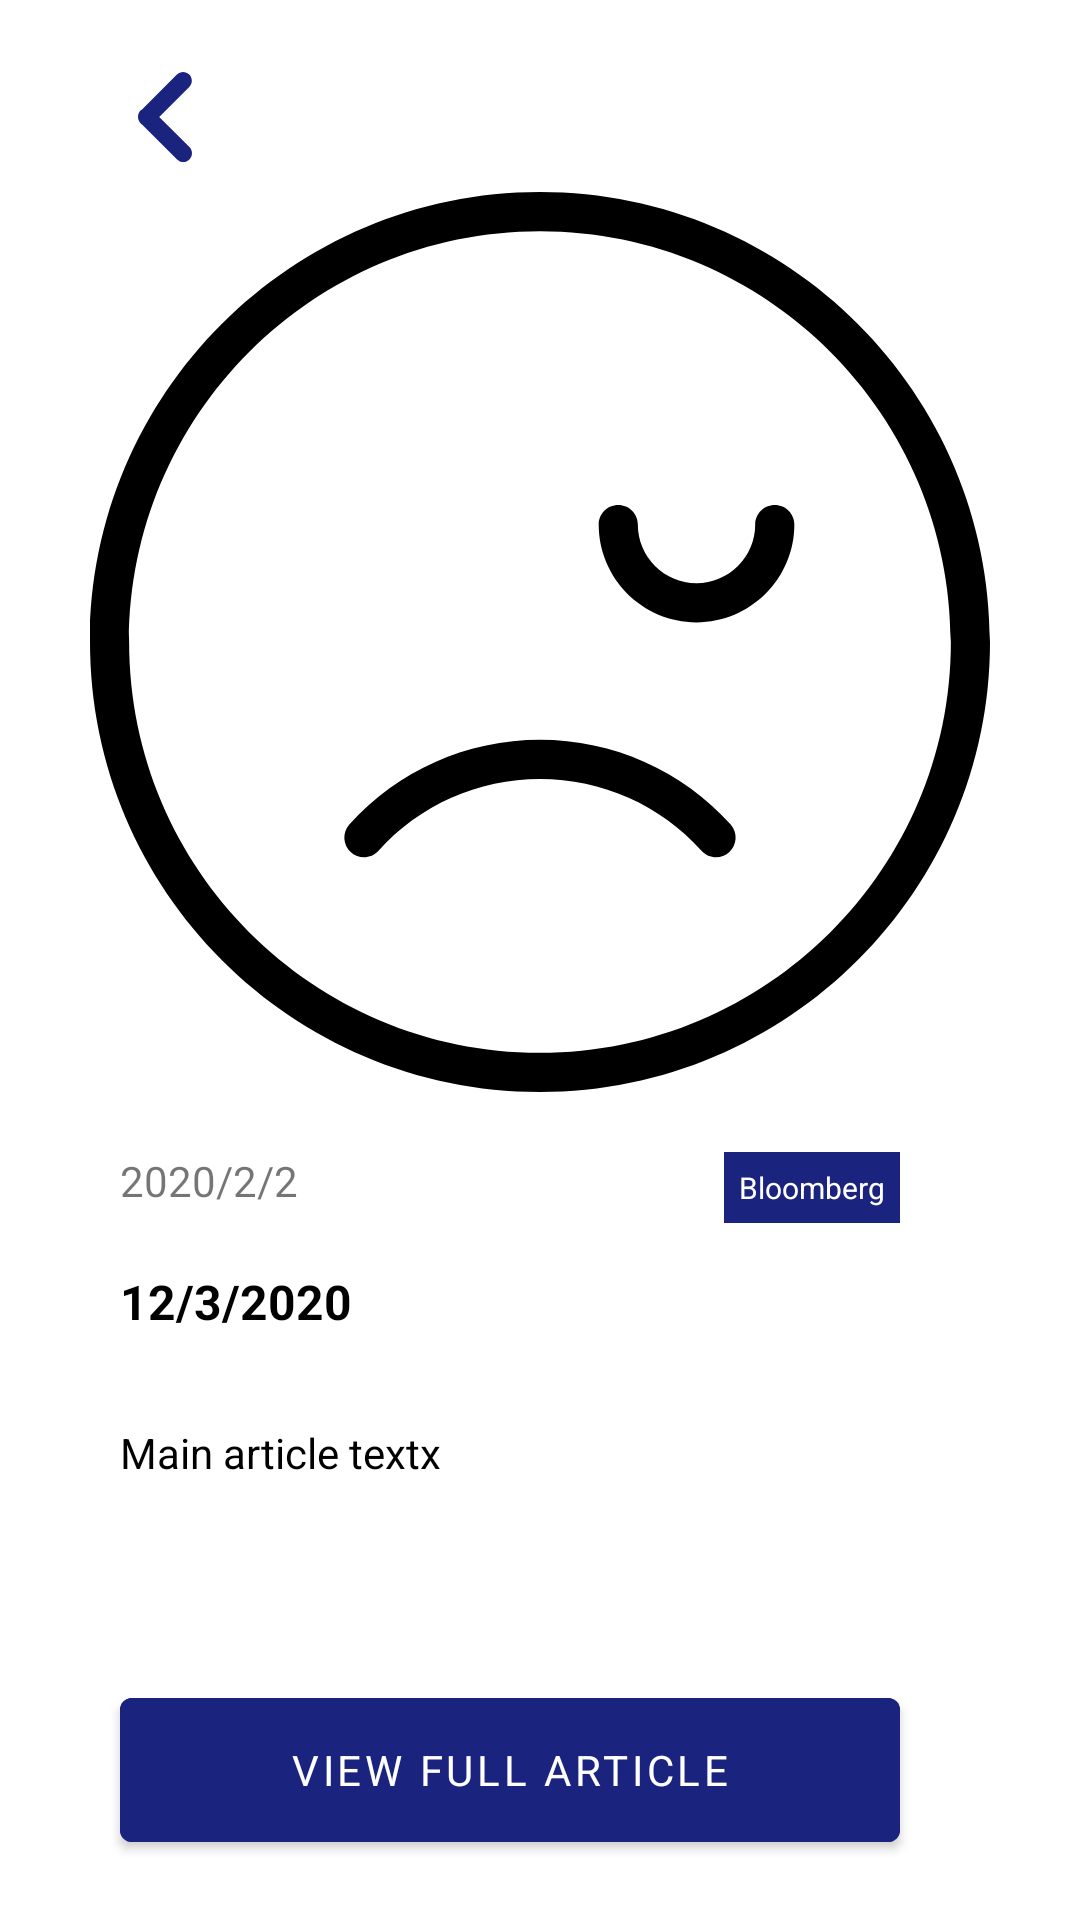

Icons on this 1080 x 1920 Android screen, each with its box as (x1, y1, x2, y2):
back: (138, 72, 192, 162)
